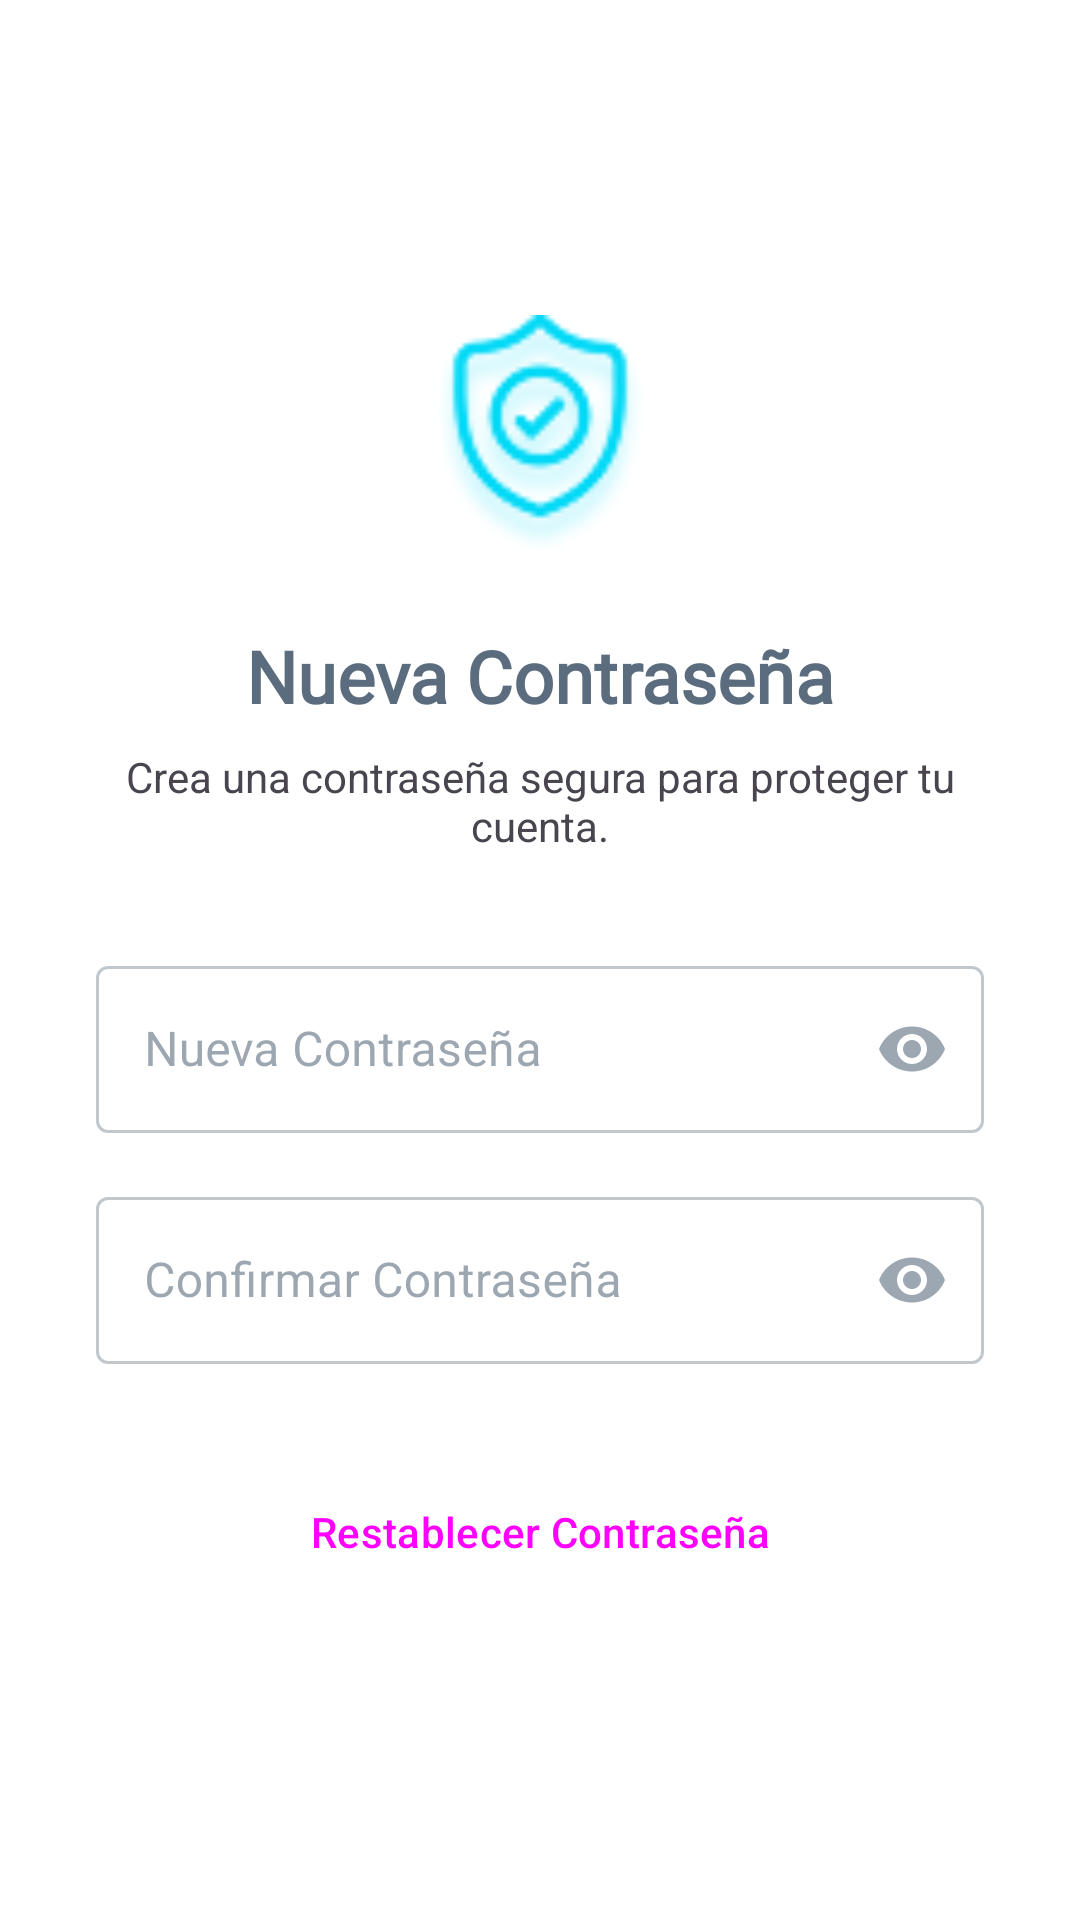

Named icons in this screenshot (1080px x 1920px) and their centers, [x,y]:
Icono de seguridad: [540,425]
